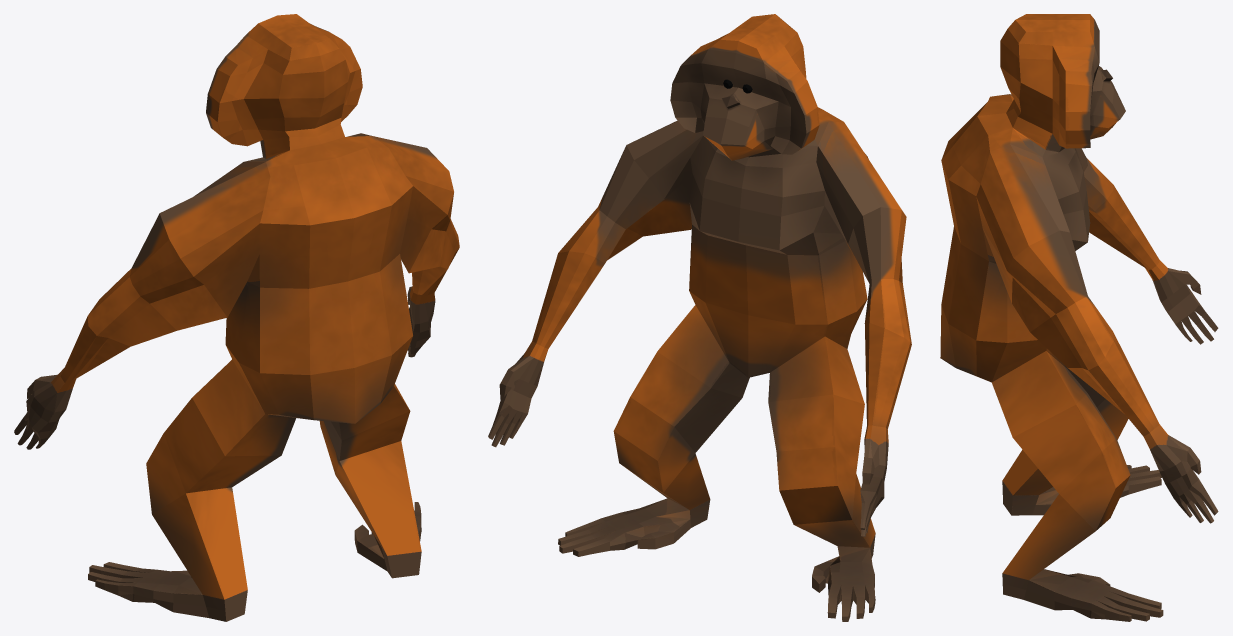
Rendered from Orangutan.glb.
3 renders of one model, left to right at view 1: azimuth 30°, elevation 25°; view 2: azimuth 150°, elevation 25°; view 3: azimuth 270°, elevation 25°, orthographic. The views are drawn at different scales.
Parts seen in each view (by area): view 1: Orangutan_Cube008; view 2: Orangutan_Cube008; view 3: Orangutan_Cube008.
Part boxes in pixels (bbox=[...]): Orangutan_Cube008: bbox=[14, 14, 459, 621]; Orangutan_Cube008: bbox=[488, 14, 911, 621]; Orangutan_Cube008: bbox=[940, 14, 1218, 621].
Size of the model in its own units: 1 by 1.32 by 0.6228.
1 material, 1 textured.
